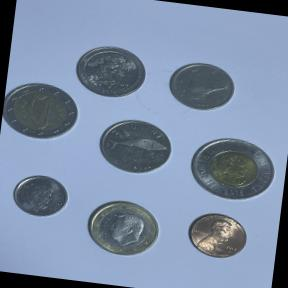coin: (181, 130, 284, 209), (78, 192, 172, 266), (92, 112, 178, 181), (0, 76, 84, 145), (70, 38, 152, 102), (177, 204, 254, 266), (6, 167, 75, 224)
